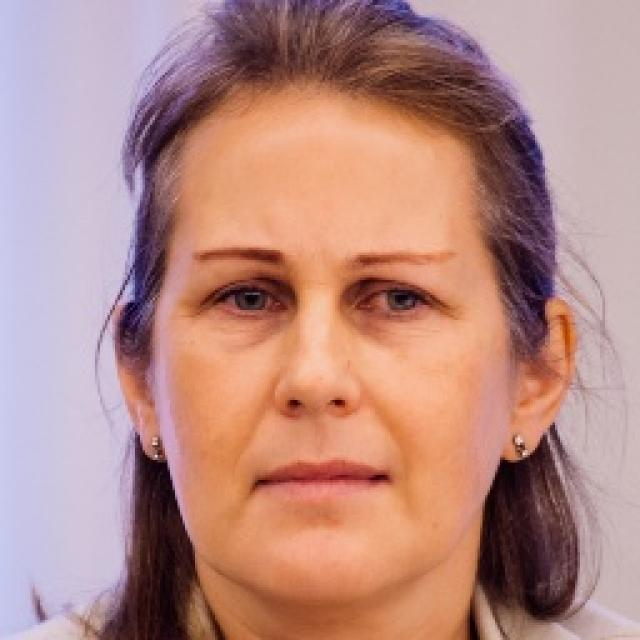earlobe: (502, 405, 540, 462), (131, 400, 164, 460)
eye: (351, 286, 444, 320), (211, 280, 287, 316)
nose: (275, 400, 361, 454)
wholeear: (502, 298, 575, 462), (112, 301, 164, 460)
